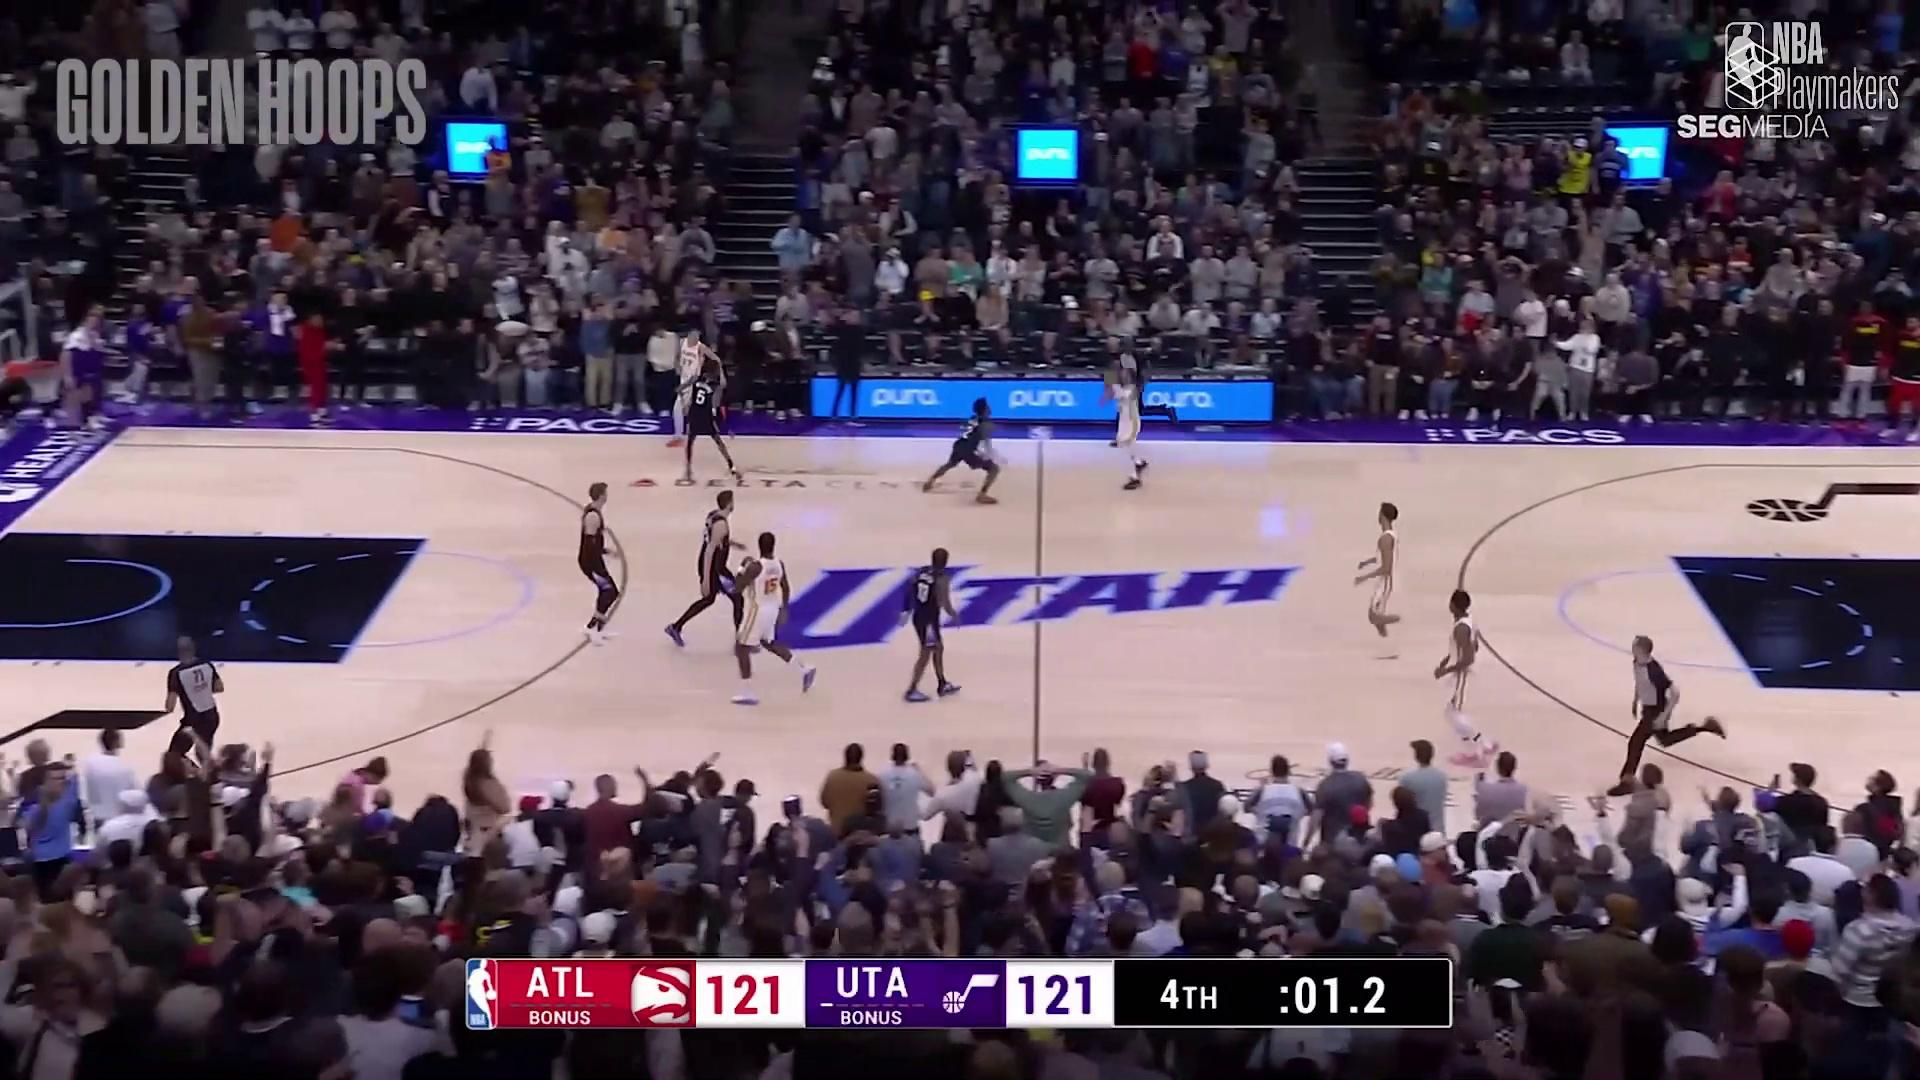hoop: (24, 350, 66, 408)
